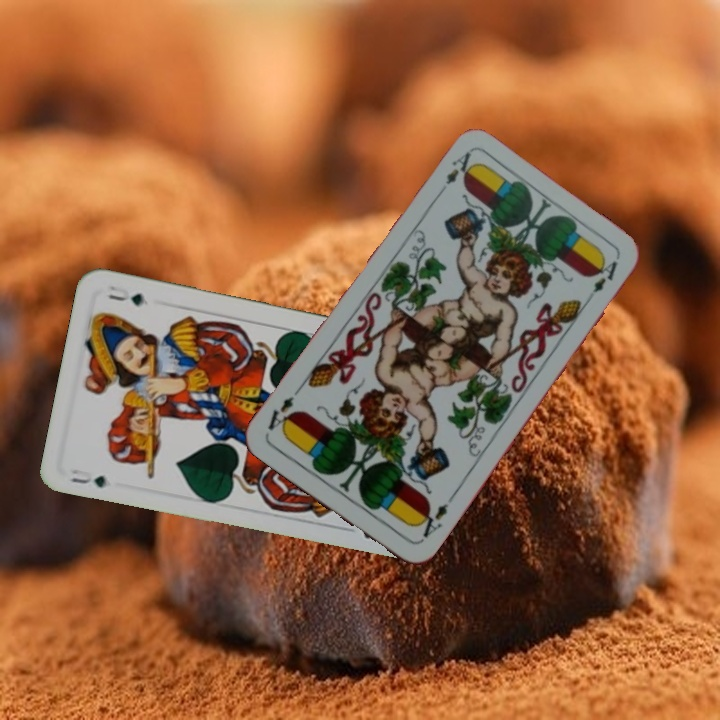EA: (412, 499, 451, 540), (441, 148, 478, 187)
GU: (66, 464, 108, 490)
